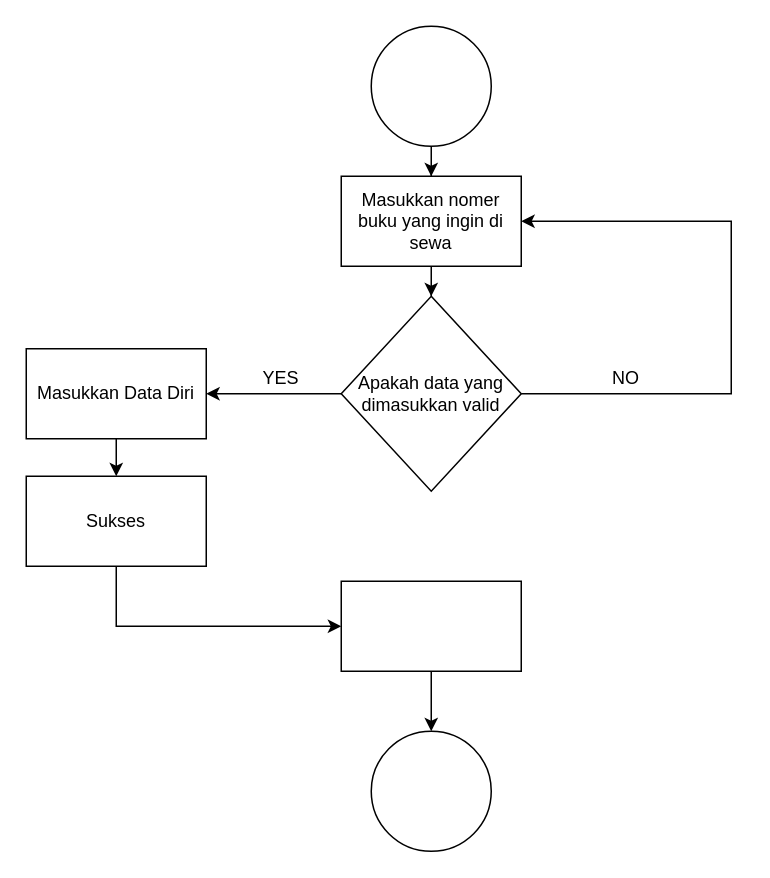
This 770x878 diagram has some shape labels left out. Here are the shapes that lost their labels. From the top down, the box of each, then its label:
(370, 25, 491, 146): Pinjam Buku
(340, 580, 521, 671): Selesai
